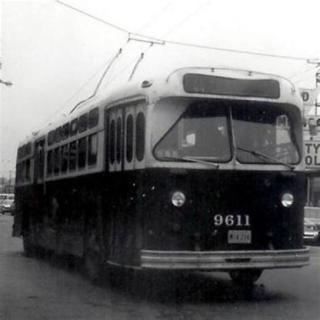Normal_vehicle: (13, 46, 320, 303)
